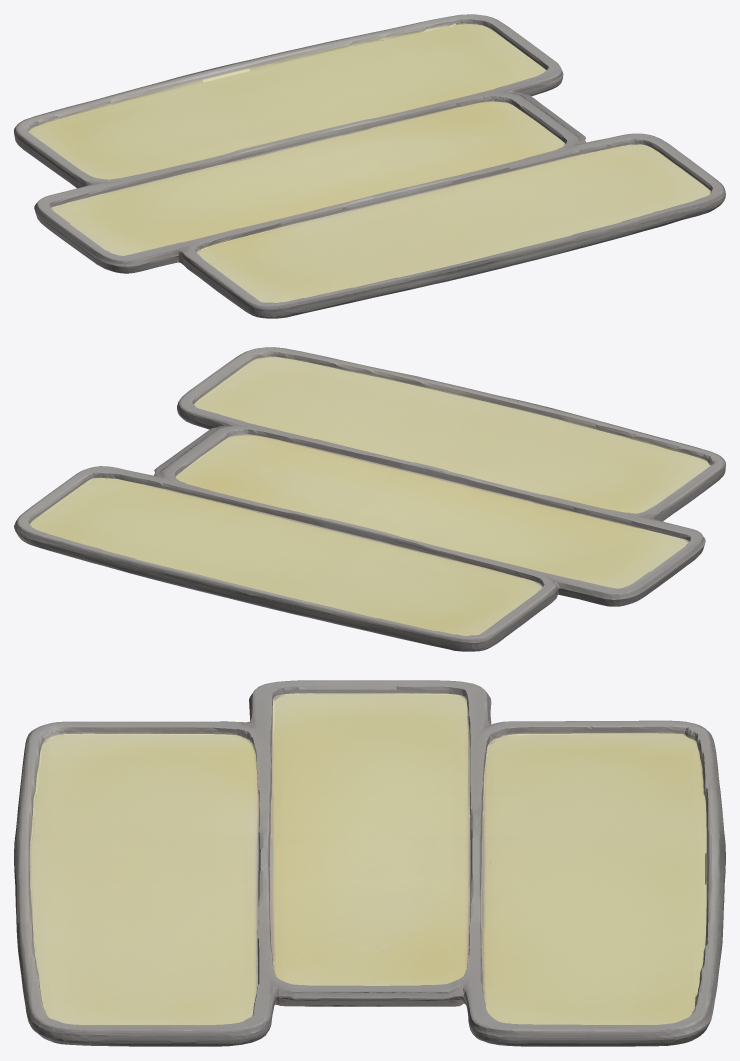
The picture shows the model from 3 angles, top to bottom: view 1: azimuth 30°, elevation 25°; view 2: azimuth 150°, elevation 25°; view 3: azimuth 270°, elevation 25°; orthographic projection. The views are drawn at different scales.
Visible parts, largest first — view 1: world; view 2: world; view 3: world.
Boxes of the visible parts, left/top/right/bottom form: world: left=14, top=14, right=725, bottom=318; world: left=14, top=347, right=725, bottom=651; world: left=14, top=680, right=725, bottom=1046.
Size of the model in its own units: 0.996 by 0.0272 by 0.8463.
Materials: 1 (1 with a texture image).
